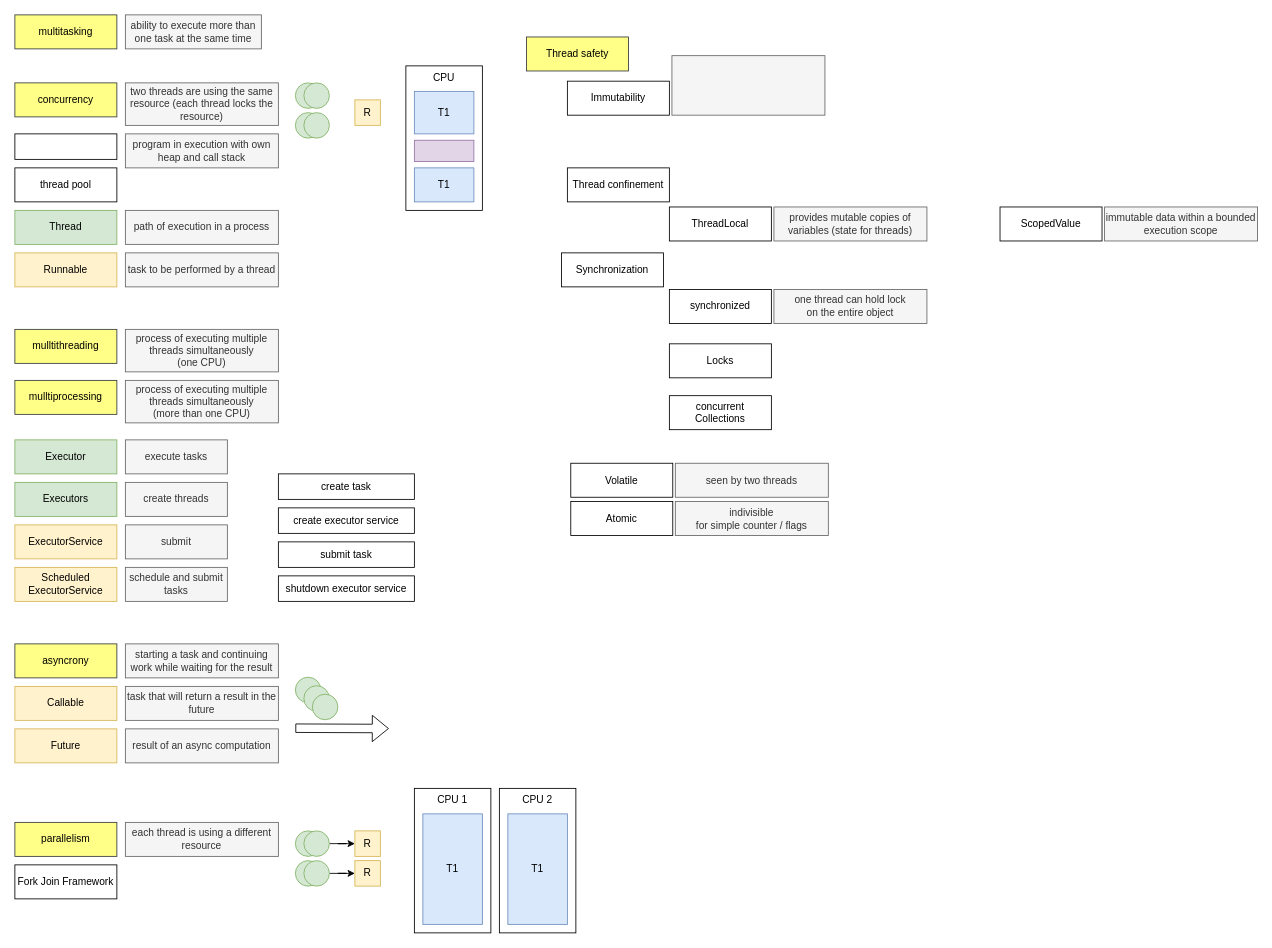
Image size: 1272x948. Some labels were removed from this diagram. The centre of each missing label's shape, as x and y in pixels:
"final class final fields no setters methods return new object" goes at point 748,85.
"process" goes at point 65,146.
"T2" goes at point 444,150.
